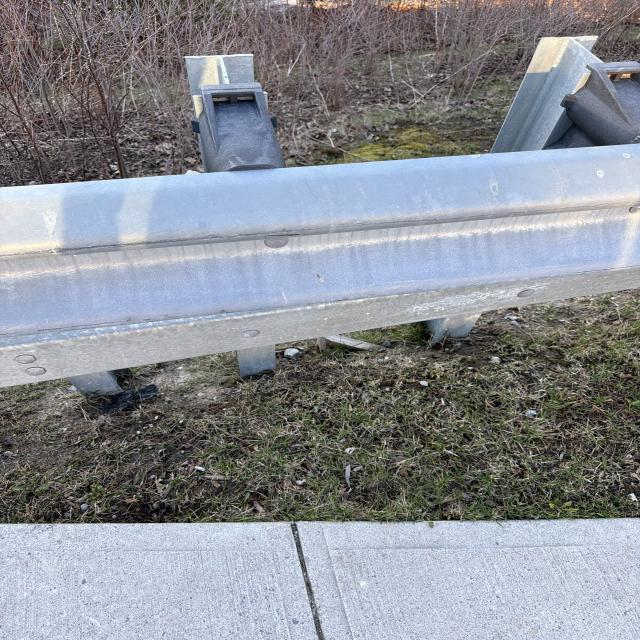Guard rail: (26, 154, 640, 332), (491, 40, 638, 150)
